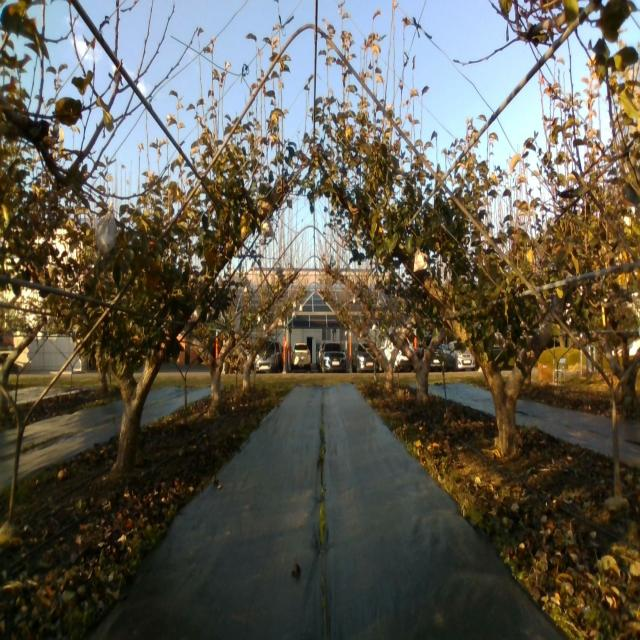pearbags: (95, 202, 117, 255), (413, 249, 428, 272), (261, 220, 274, 238)
